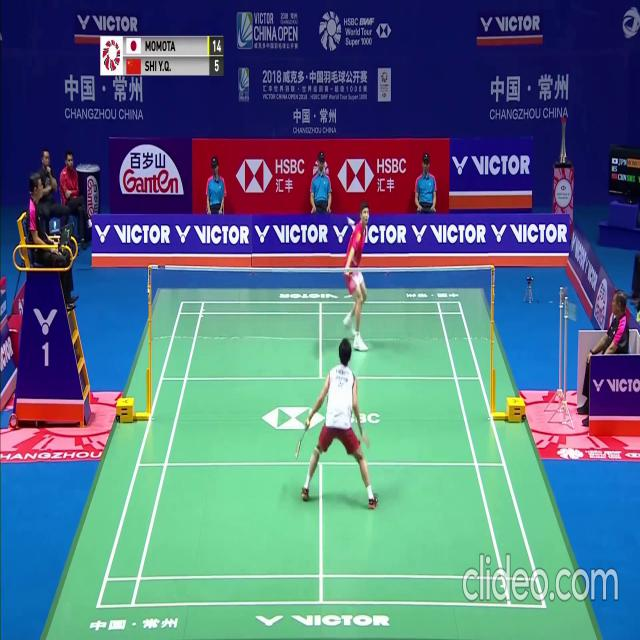Shuttlecock: (346, 215, 350, 222)
